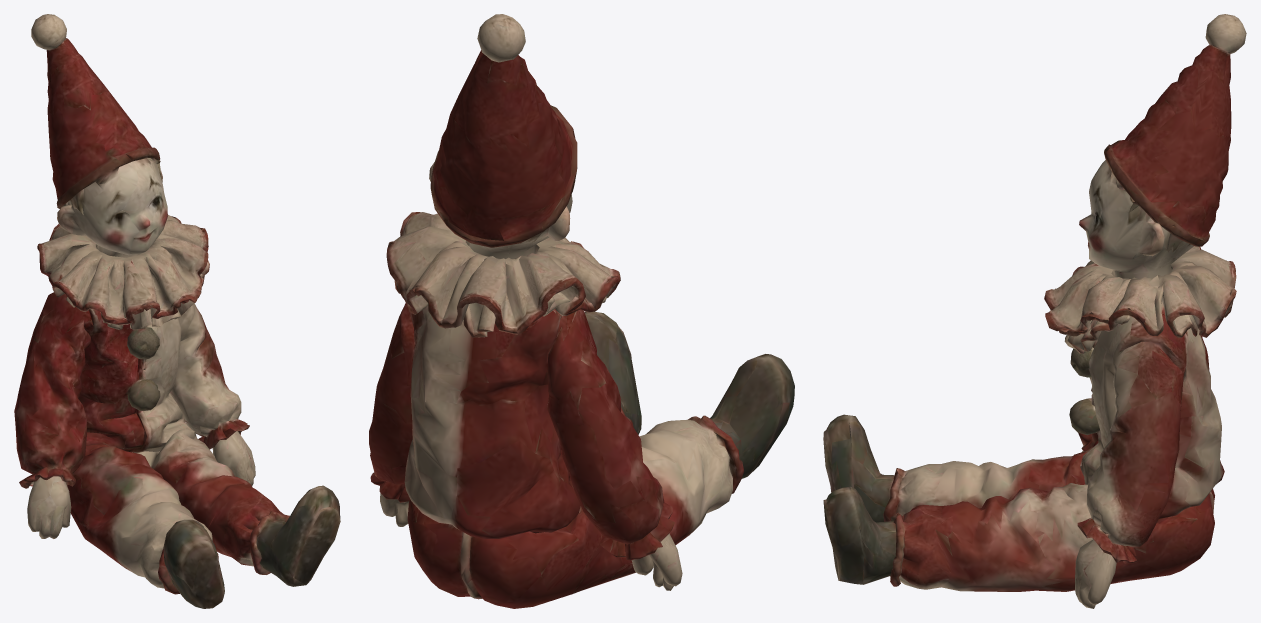
File: up_doll_clown.glb
3 renders of one model, left to right at view 1: azimuth 30°, elevation 25°; view 2: azimuth 150°, elevation 25°; view 3: azimuth 270°, elevation 25°, orthographic. The views are drawn at different scales.
Parts seen in each view (by area): view 1: up_doll_clown; view 2: up_doll_clown; view 3: up_doll_clown.
Boxes of the visible parts, bbox=[...] form: up_doll_clown: bbox=[14, 14, 340, 608]; up_doll_clown: bbox=[369, 14, 794, 608]; up_doll_clown: bbox=[823, 14, 1246, 608].
Size of the model in its own units: 0.3043 by 0.6 by 0.4422.
Materials: 1 (1 with a texture image).
